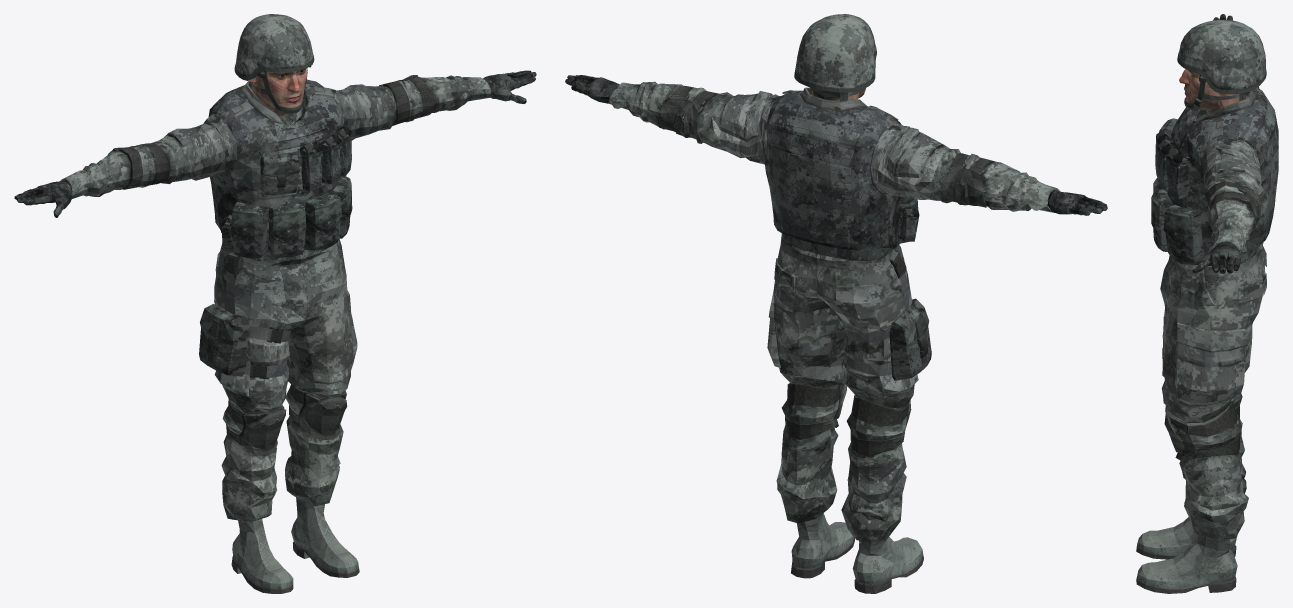
Rendered from Soldier.gltf.
3 renders of one model, left to right at view 1: azimuth 30°, elevation 25°; view 2: azimuth 150°, elevation 25°; view 3: azimuth 270°, elevation 25°, orthographic. The views are drawn at different scales.
Size of the model in its own units: 2.5 by 2.48 by 0.5859.
Materials: 2 (2 with a texture image).
